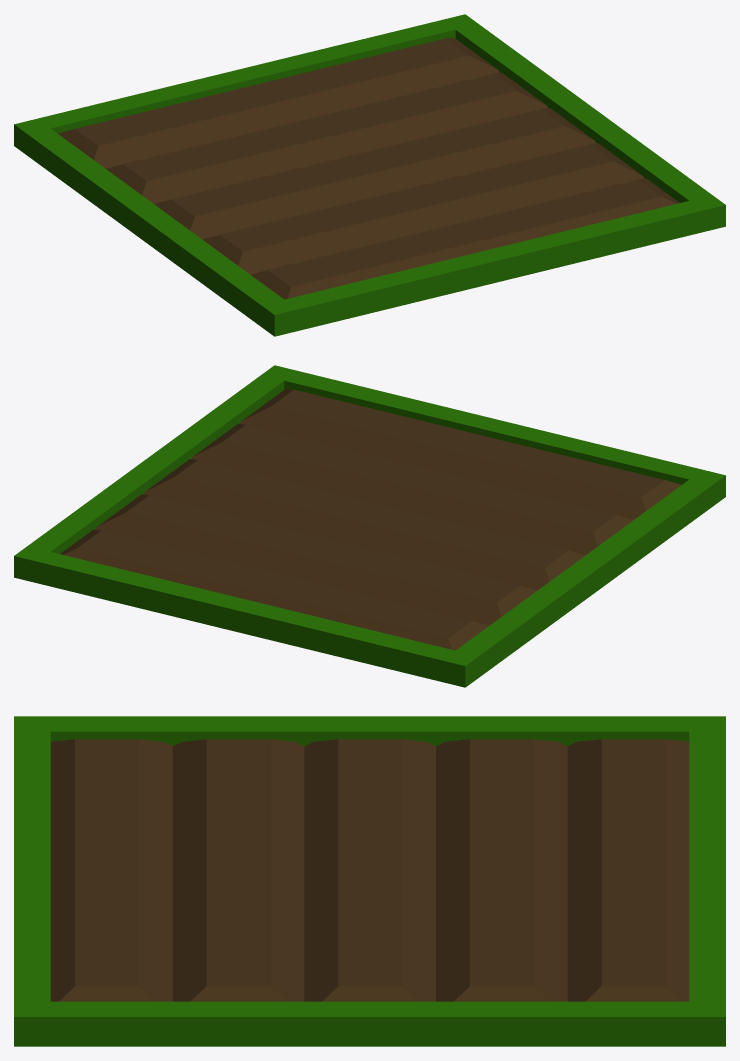
File: garden.fbx
The picture shows the model from 3 angles, top to bottom: view 1: azimuth 30°, elevation 25°; view 2: azimuth 150°, elevation 25°; view 3: azimuth 270°, elevation 25°; orthographic projection. The views are drawn at different scales.
Parts seen in each view (by area): view 1: Cube.002; view 2: Cube.002; view 3: Cube.002.
Boxes of the visible parts, x1,y1,x2,y2 form: Cube.002: [14, 14, 725, 336]; Cube.002: [14, 365, 725, 687]; Cube.002: [14, 716, 725, 1046].
Size of the model in its own units: 2014 by 102 by 2014.
